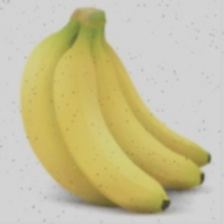banana: (37, 17, 176, 177)
